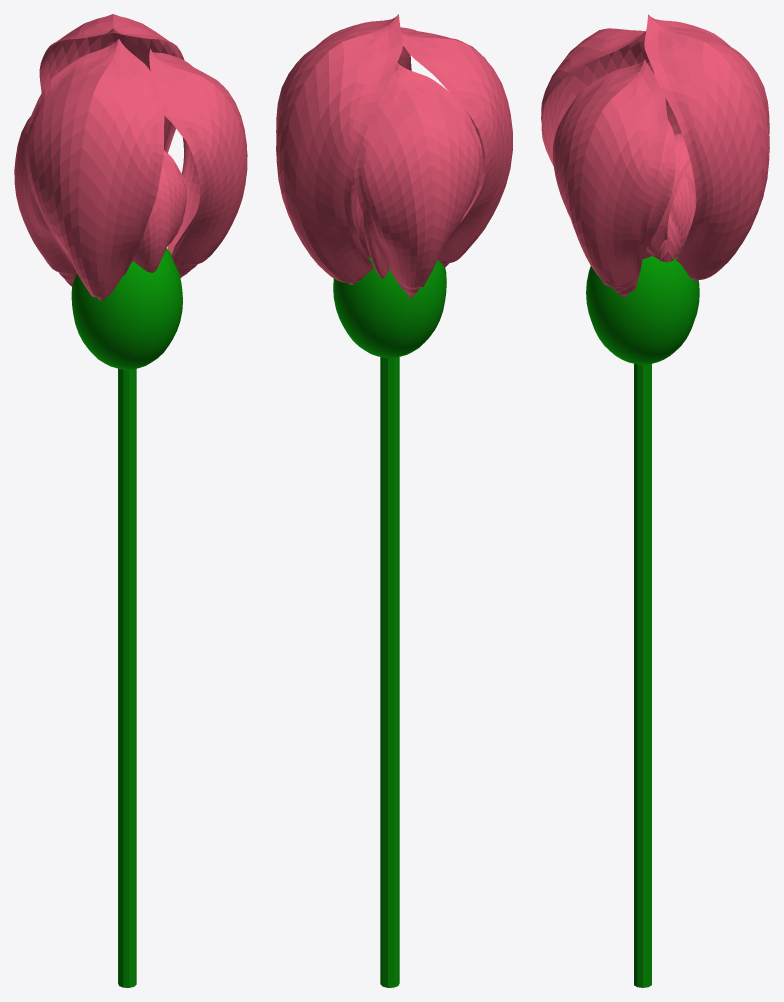
The model's file is Lotus006.fbx.
3 renders of one model, left to right at view 1: azimuth 30°, elevation 25°; view 2: azimuth 150°, elevation 25°; view 3: azimuth 270°, elevation 25°, orthographic.
Parts seen in each view (by area): view 1: nurbsToPoly11, pCylinder1, nurbsToPoly24, pSphere4, nurbsToPoly10, nurbsToPoly8, nurbsToPoly12, nurbsToPoly9; view 2: nurbsToPoly10, nurbsToPoly12, pCylinder1, nurbsToPoly11, pSphere4, nurbsToPoly23, nurbsToPoly17; view 3: nurbsToPoly10, nurbsToPoly24, pCylinder1, pSphere4, nurbsToPoly11, nurbsToPoly9, nurbsToPoly22, nurbsToPoly17, nurbsToPoly15.
Part boxes in pixels (x1,y1,x2,y2): nurbsToPoly11: [24, 39, 164, 301]; pCylinder1: [118, 368, 136, 987]; nurbsToPoly24: [149, 48, 247, 277]; pSphere4: [71, 248, 182, 369]; nurbsToPoly10: [39, 14, 184, 152]; nurbsToPoly8: [132, 151, 186, 272]; nurbsToPoly12: [14, 116, 77, 286]; nurbsToPoly9: [162, 98, 200, 259]; nurbsToPoly10: [276, 14, 402, 284]; nurbsToPoly12: [354, 62, 482, 299]; pCylinder1: [380, 357, 399, 987]; nurbsToPoly11: [400, 27, 512, 267]; pSphere4: [333, 257, 446, 358]; nurbsToPoly23: [363, 213, 388, 278]; nurbsToPoly17: [350, 175, 370, 257]; nurbsToPoly10: [644, 14, 769, 281]; nurbsToPoly24: [553, 59, 667, 298]; pCylinder1: [634, 363, 651, 987]; pSphere4: [586, 256, 699, 364]; nurbsToPoly11: [541, 28, 649, 165]; nurbsToPoly9: [644, 119, 675, 251]; nurbsToPoly22: [646, 133, 691, 255]; nurbsToPoly17: [670, 172, 696, 251]; nurbsToPoly15: [646, 212, 681, 262].
Bounding box in the file's own units: 12.57 × 56.12 × 12.06.
